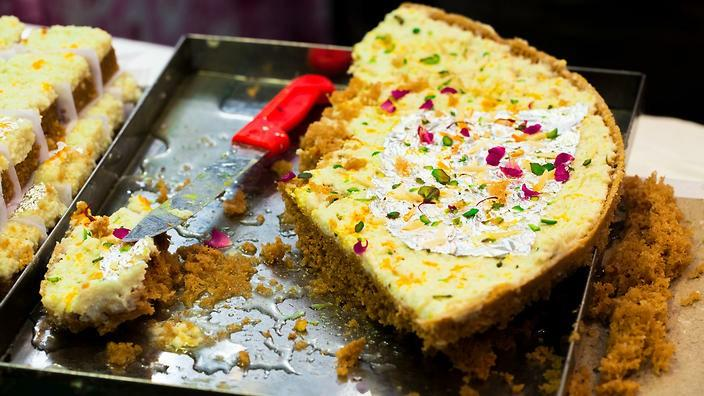Ghevar: (283, 0, 626, 354)
